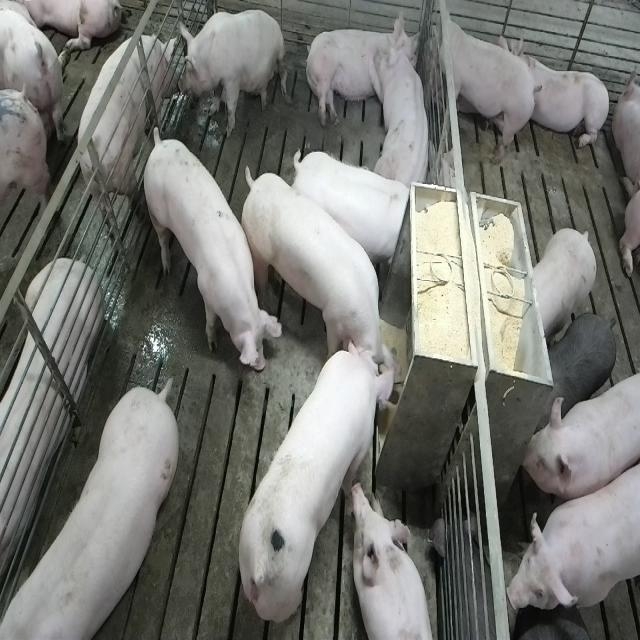Feeding: (236, 339, 400, 625), (235, 156, 397, 383)
Lateral_lying: (302, 10, 420, 129)
Sitting: (176, 7, 284, 138)
Standing: (0, 381, 176, 640), (142, 126, 282, 380), (504, 449, 638, 615), (76, 33, 178, 240), (432, 5, 540, 165), (288, 147, 414, 280), (521, 367, 637, 502), (545, 310, 617, 422), (530, 227, 598, 343), (509, 608, 607, 640)
Sternal_lying: (0, 260, 100, 612), (351, 481, 439, 640), (520, 40, 612, 155)
